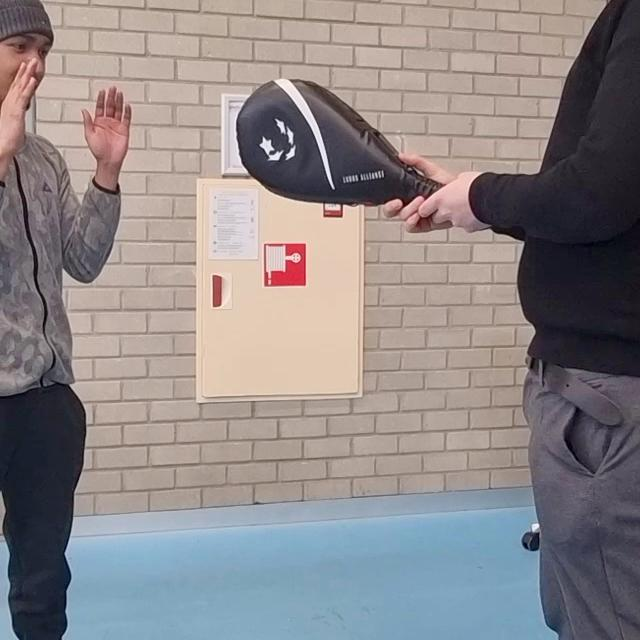paddle: (236, 79, 435, 208)
